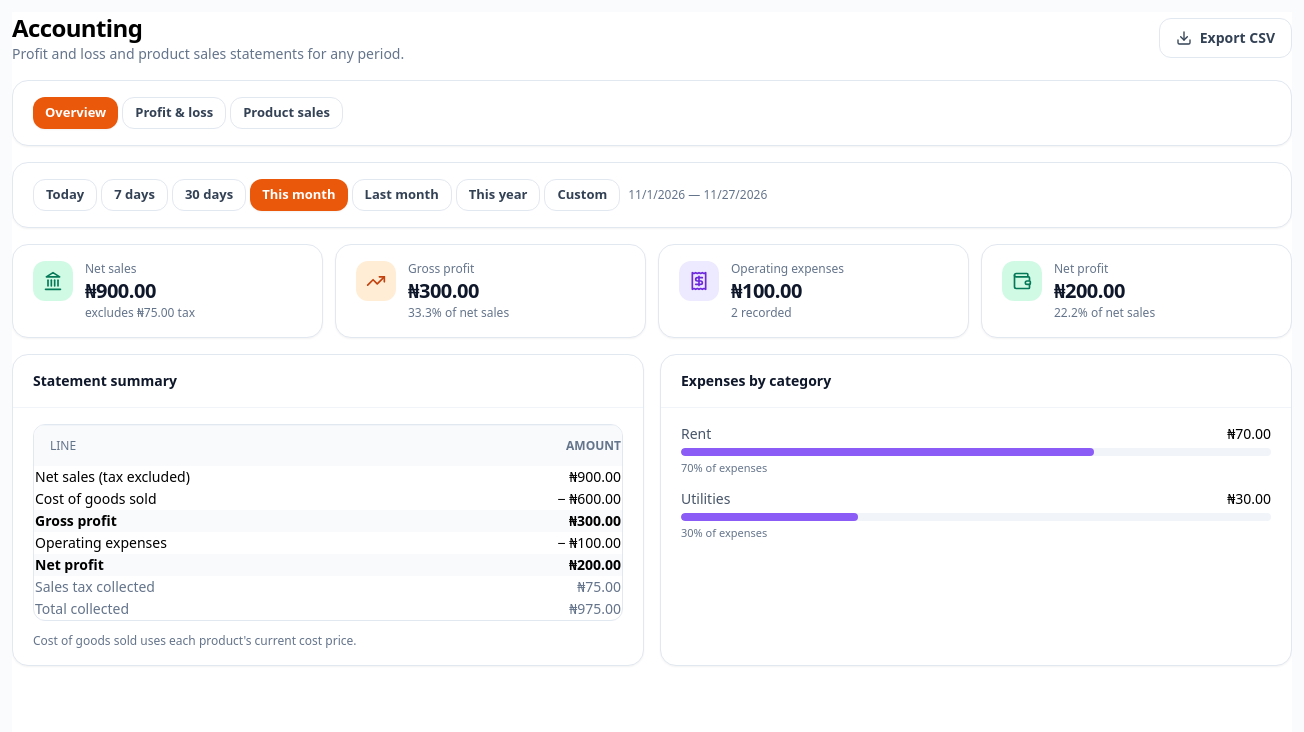
Scenario: AccountingPage › renders the profit and loss statement with derived margins
Expected: the heading "Statement summary" is shown, [33,371,177,390]
Click the button "Profit & loss". click: (174, 113)
box: [122,97,226,129]
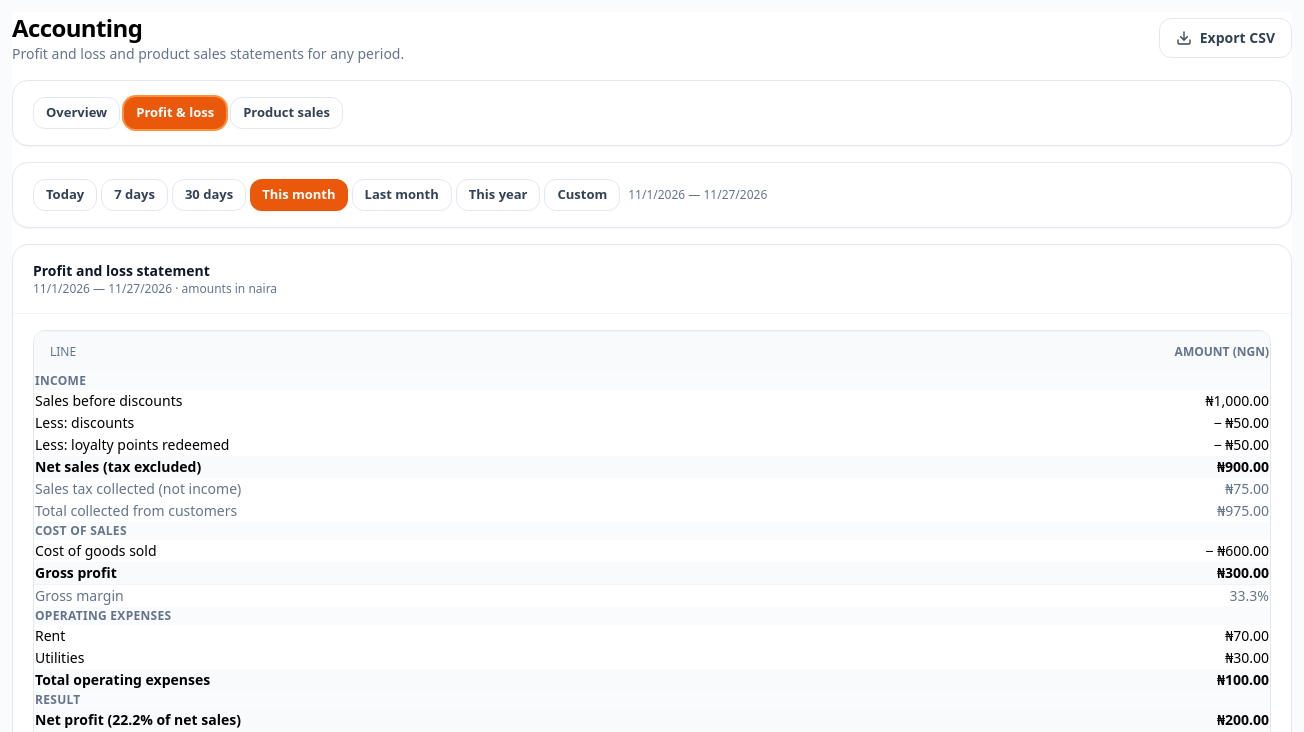
Expected: the heading "Profit and loss statement" is shown, [33,261,210,280]
Expected: the text "Sales before discounts" is shown, [34,390,879,412]
Expected: the text "Less: loyalty points redeemed" is shown, [34,434,879,456]
